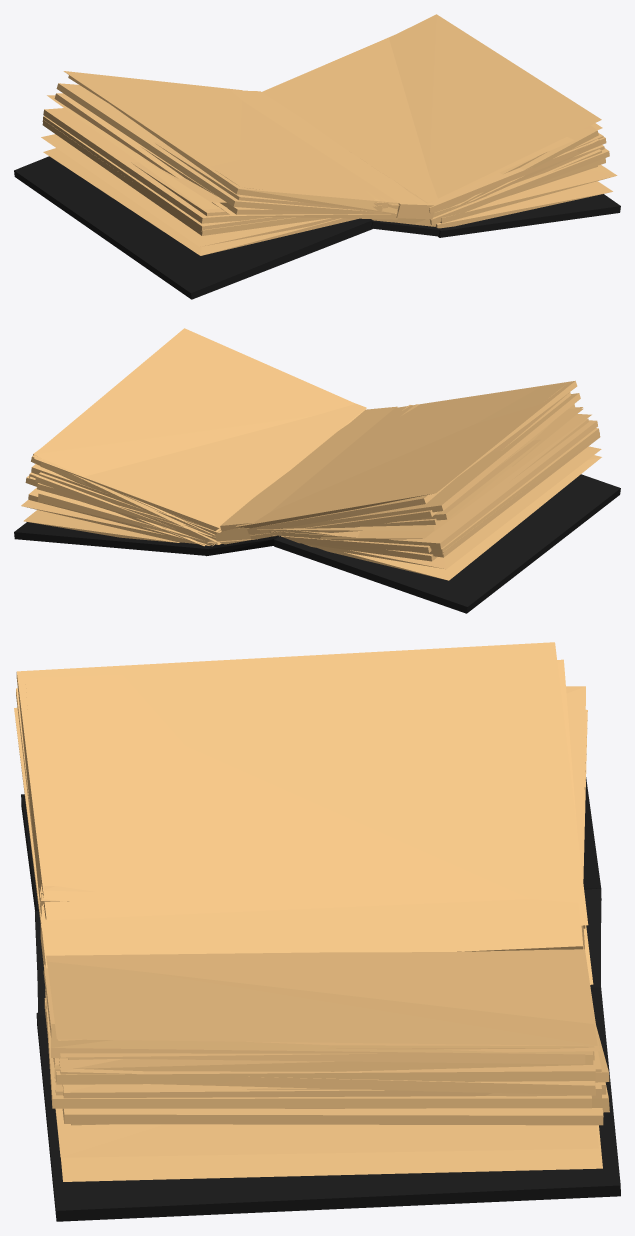
Rendered from open book by Justin Randall - 4WPcl72i1_S.glb.
The picture shows the model from 3 angles, top to bottom: view 1: azimuth 30°, elevation 25°; view 2: azimuth 150°, elevation 25°; view 3: azimuth 270°, elevation 25°; orthographic projection. The views are drawn at different scales.
Parts seen in each view (by area): view 1: group666626068, group2143806105, group1497919402, group258392646, group93388917, group1654725082, group675331827, group1087318450, group25947490, group1539901544, group32449690, group1981141617 (+1 smaller); view 2: group666626068, group2143806105, group1497919402, group93388917, group258392646, group1654725082, group1981141617, group675331827, group653152603, group1087318450, group25947490, group1539901544 (+2 smaller); view 3: group2143806105, group666626068, group1654725082, group675331827, group1981141617, group25947490, group1539901544, group1087318450, group32449690, group93388917, group1497919402, group653152603 (+1 smaller).
Part boxes in pixels (left/top/right/bottom): group666626068: left=262, top=14, right=606, bottom=213; group2143806105: left=54, top=71, right=398, bottom=219; group1497919402: left=14, top=156, right=373, bottom=299; group258392646: left=41, top=116, right=382, bottom=255; group93388917: left=42, top=95, right=399, bottom=235; group1654725082: left=231, top=90, right=434, bottom=219; group675331827: left=438, top=194, right=620, bottom=237; group1087318450: left=435, top=181, right=612, bottom=228; group25947490: left=440, top=165, right=617, bottom=223; group1539901544: left=449, top=125, right=601, bottom=210; group32449690: left=430, top=148, right=609, bottom=224; group1981141617: left=429, top=133, right=605, bottom=219; group666626068: left=31, top=328, right=366, bottom=535; group2143806105: left=236, top=380, right=582, bottom=539; group1497919402: left=274, top=474, right=620, bottom=613; group93388917: left=257, top=404, right=600, bottom=561; group258392646: left=276, top=428, right=601, bottom=580; group1654725082: left=220, top=406, right=397, bottom=531; group1981141617: left=28, top=472, right=219, bottom=546; group675331827: left=14, top=522, right=213, bottom=555; group653152603: left=35, top=458, right=221, bottom=544; group1087318450: left=23, top=510, right=179, bottom=542; group25947490: left=21, top=500, right=192, bottom=543; group1539901544: left=29, top=450, right=212, bottom=546; group2143806105: left=14, top=642, right=588, bottom=928; group666626068: left=43, top=949, right=599, bottom=1084; group1654725082: left=40, top=899, right=582, bottom=968; group675331827: left=36, top=987, right=620, bottom=1221; group1981141617: left=59, top=1051, right=609, bottom=1125; group25947490: left=44, top=998, right=598, bottom=1157; group1539901544: left=51, top=1024, right=595, bottom=1096; group1087318450: left=61, top=1125, right=602, bottom=1181; group32449690: left=45, top=989, right=591, bottom=1108; group93388917: left=39, top=686, right=587, bottom=927; group1497919402: left=21, top=777, right=601, bottom=911; group653152603: left=68, top=1027, right=609, bottom=1082.
Size of the model in its own units: 0.6991 by 0.2011 by 0.4724.
